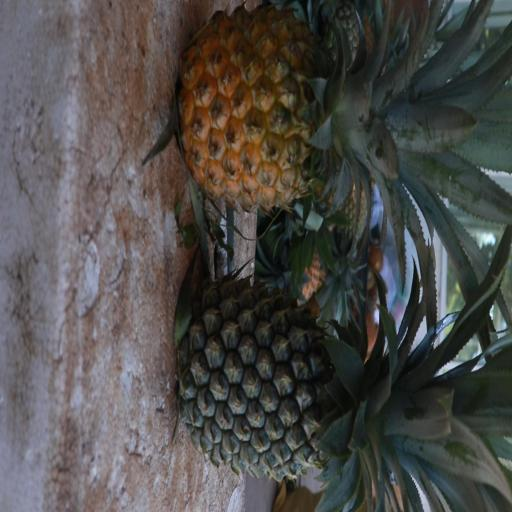Pineapple - v8 v1: (186, 11, 476, 204)
